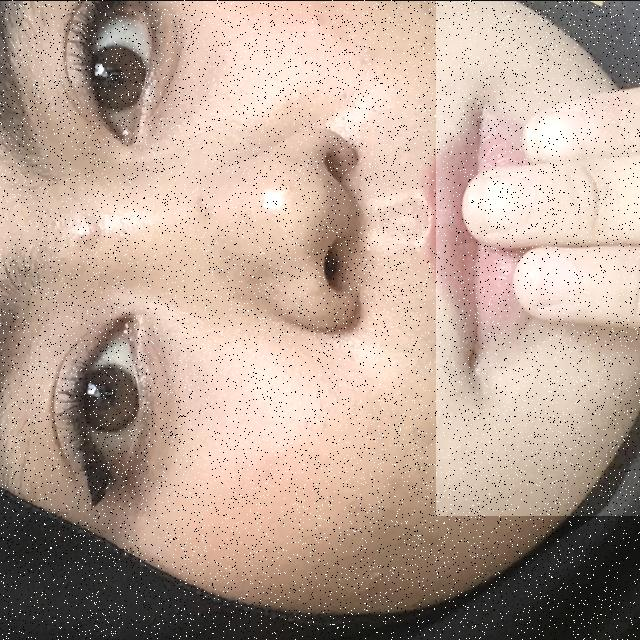ganteng: (436, 0, 640, 515)
